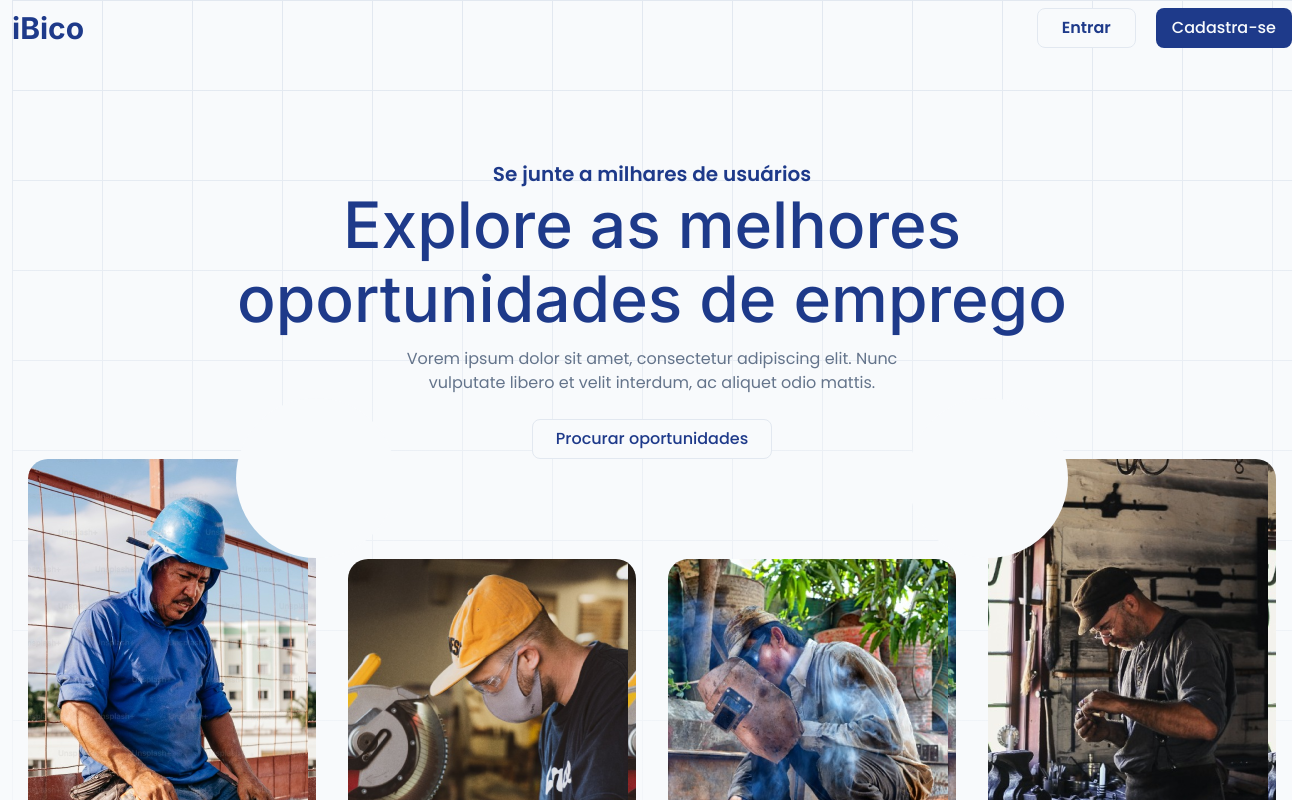
Navigation › should navigate to the sign page
What coordinates should you click on to do the following:
click the link "Entrar"
I would click on:
 (1087, 28)
Its box is [1037,8,1136,48].
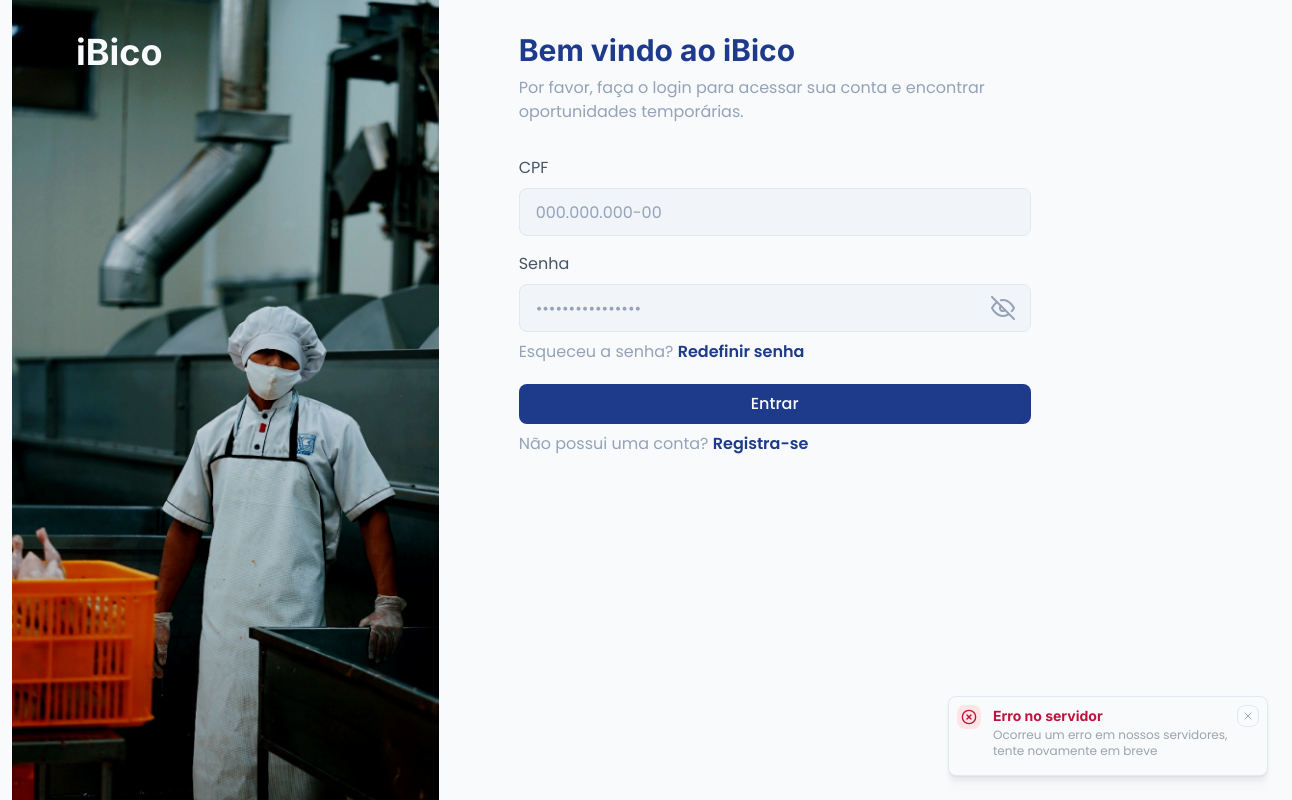
Expected: the heading "Bem vindo ao iBico" is shown, [519,32,795,68]
